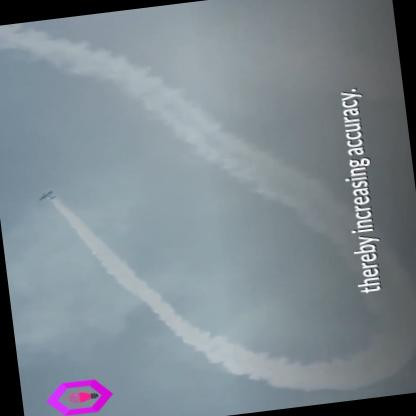plane: (31, 178, 64, 205)
